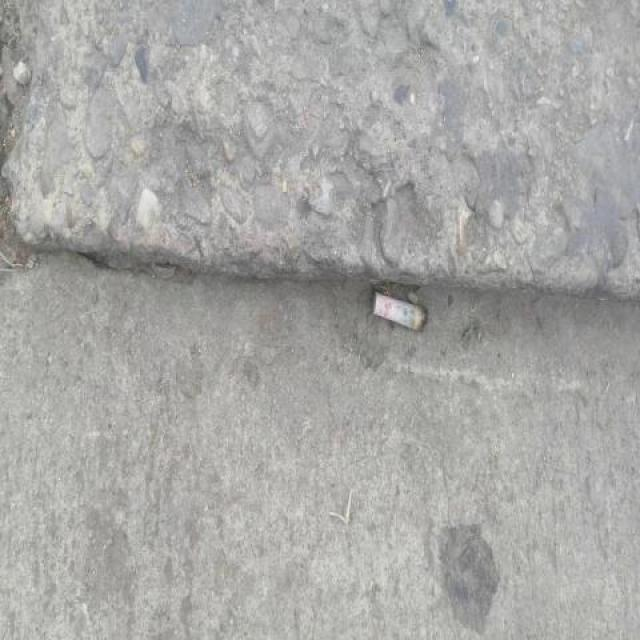non-organic waste: (366, 286, 431, 339)
